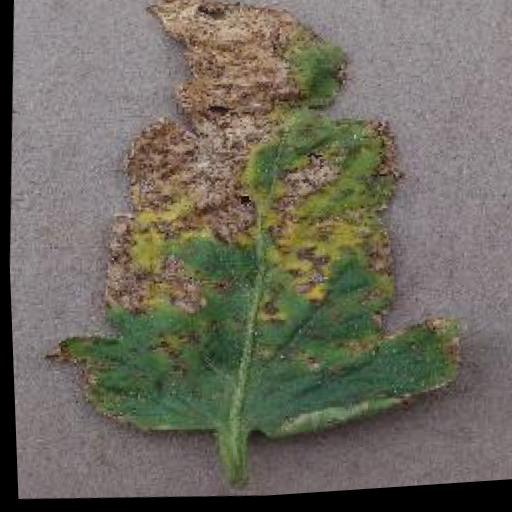Bacterial Spot: (22, 0, 484, 462)
